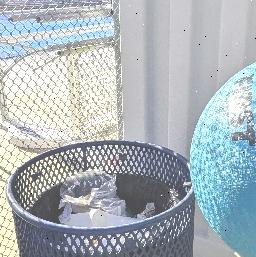algae: (191, 47, 256, 257)
